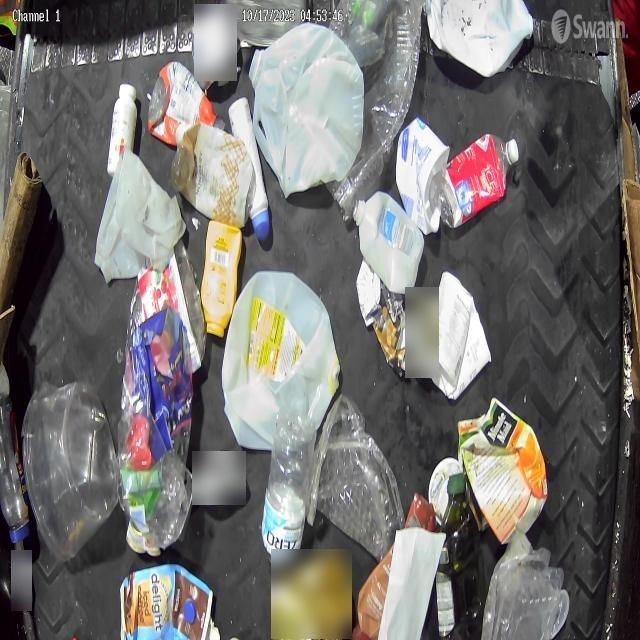milk_jug: (221, 270, 341, 457), (249, 22, 366, 200), (96, 152, 186, 286), (354, 189, 424, 294)
non_white_jug: (457, 394, 549, 547), (426, 1, 533, 78), (120, 562, 214, 640)
plastic_bottle: (262, 409, 318, 571), (0, 398, 31, 542)
